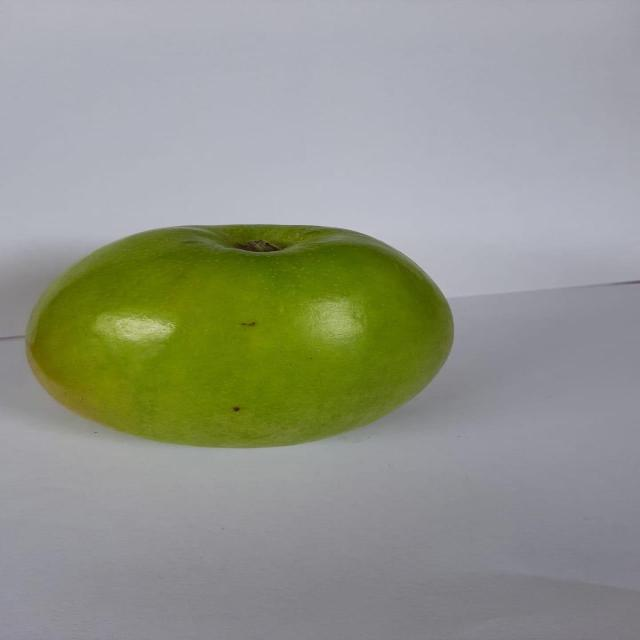Rotten Apple: (22, 217, 459, 451)
